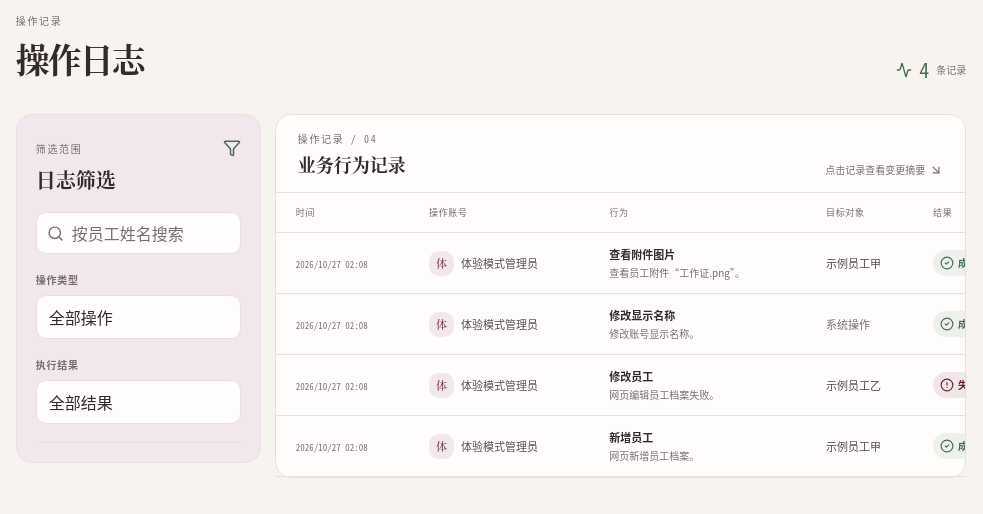
Scenario: AuditPage filters › reloads for operation and result selection changes
Check: the dropdown named "按执行结果筛选日志" is shown, box [36,380,241,424]
Select "修改员工" in the dropdown named "按操作类型筛选日志" at {"x": 138, "y": 317}, box [36,295,241,339]
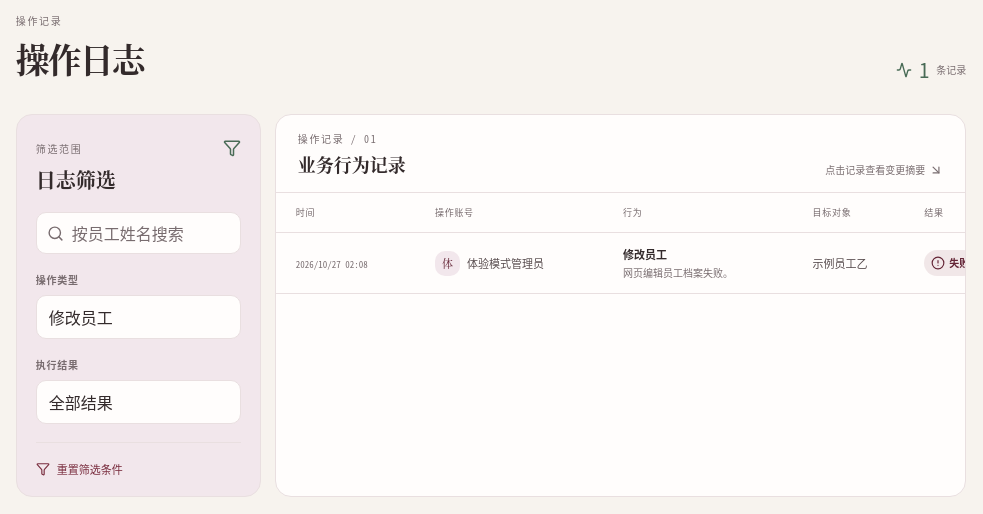
Check: the row "2026/10/27 02:08 体 体验模式管理员 修改员工 网页编辑员工档案失败。 示例员工乙 失败" is shown, box [276,233,965,294]
Select "成功" in the dropdown named "按执行结果筛选日志" at {"x": 138, "y": 402}, box [36,380,241,424]
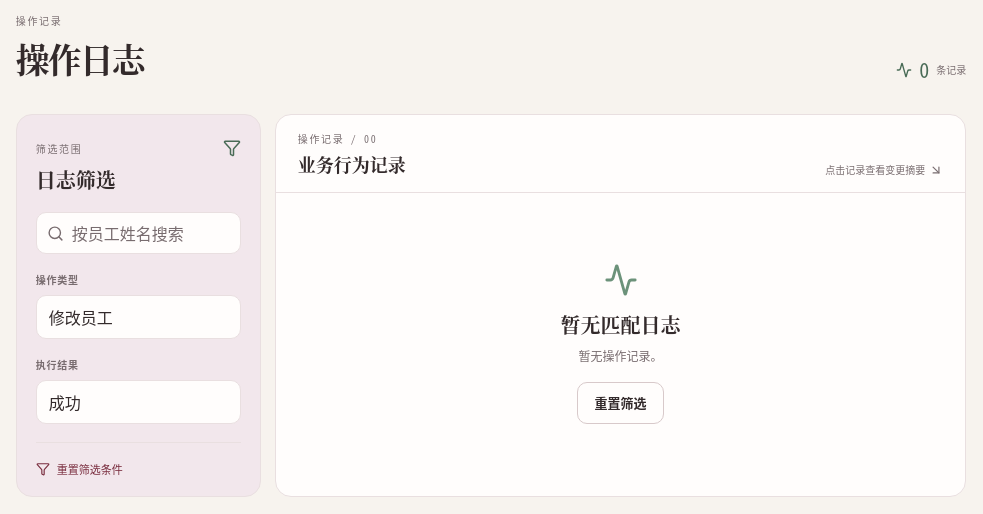
Check: the text "暂无匹配日志" is shown, box [560,310,680,339]
Check: the text "暂无操作记录。" is shown, box [578,347,662,364]
